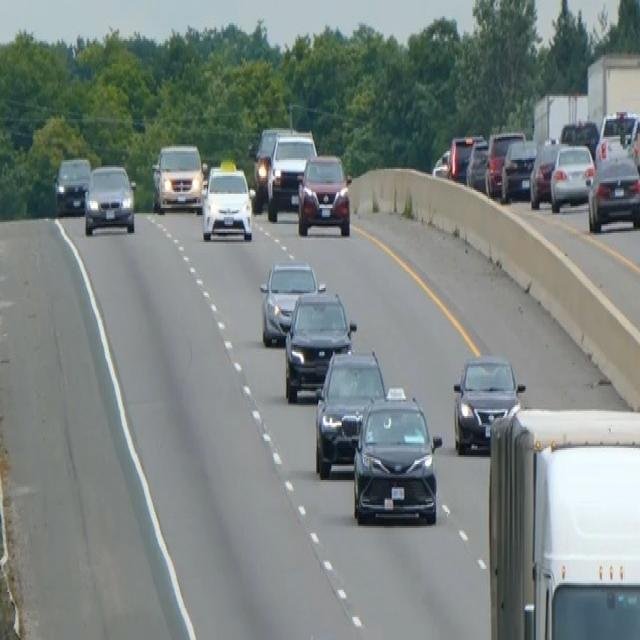car: (313, 347, 386, 478), (283, 284, 356, 402), (452, 352, 524, 453), (258, 260, 319, 346), (297, 151, 352, 237), (266, 130, 317, 220), (201, 160, 253, 242), (587, 151, 639, 233), (83, 162, 136, 234), (248, 124, 293, 208), (151, 142, 203, 212), (549, 140, 595, 212), (485, 130, 524, 196), (595, 109, 639, 167), (500, 137, 537, 203), (53, 155, 90, 215), (529, 137, 560, 208), (448, 133, 482, 183), (559, 118, 598, 158), (465, 139, 490, 192), (431, 146, 450, 180)
lorry: (486, 402, 639, 638)
minivan: (350, 384, 443, 528)
